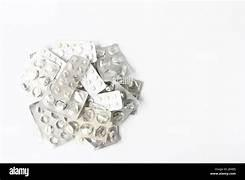pill_Strip: (29, 42, 142, 147), (30, 101, 74, 145), (22, 49, 62, 96), (50, 56, 88, 102), (41, 89, 87, 119), (96, 44, 133, 80), (78, 104, 112, 142), (112, 81, 138, 124), (31, 48, 65, 77), (50, 41, 96, 62), (86, 125, 120, 148), (81, 64, 105, 96), (112, 81, 138, 105), (67, 89, 87, 118), (94, 90, 122, 110), (35, 48, 64, 65), (99, 125, 120, 147), (112, 106, 134, 125), (121, 79, 142, 98), (84, 138, 104, 148), (116, 76, 133, 86), (105, 82, 113, 91)
